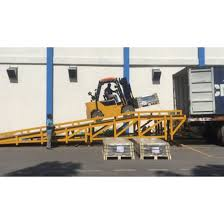Pallet Jack: (84, 76, 159, 120)
Yard Ramp: (3, 110, 188, 147)
